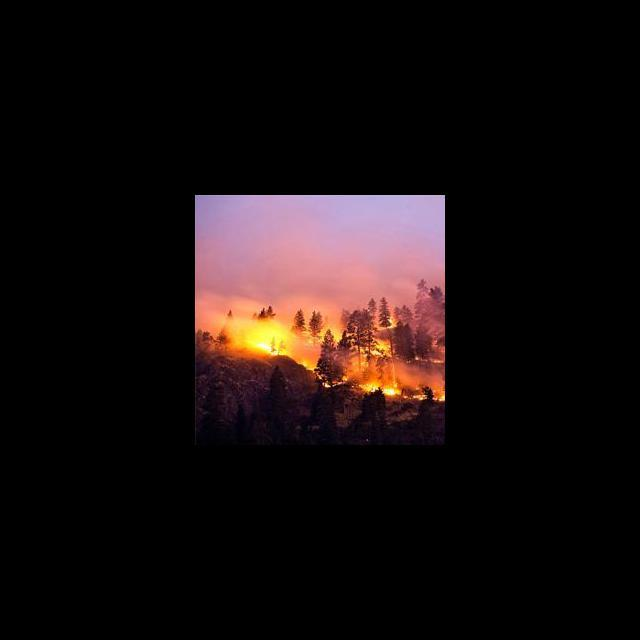Fire: (242, 306, 444, 408)
